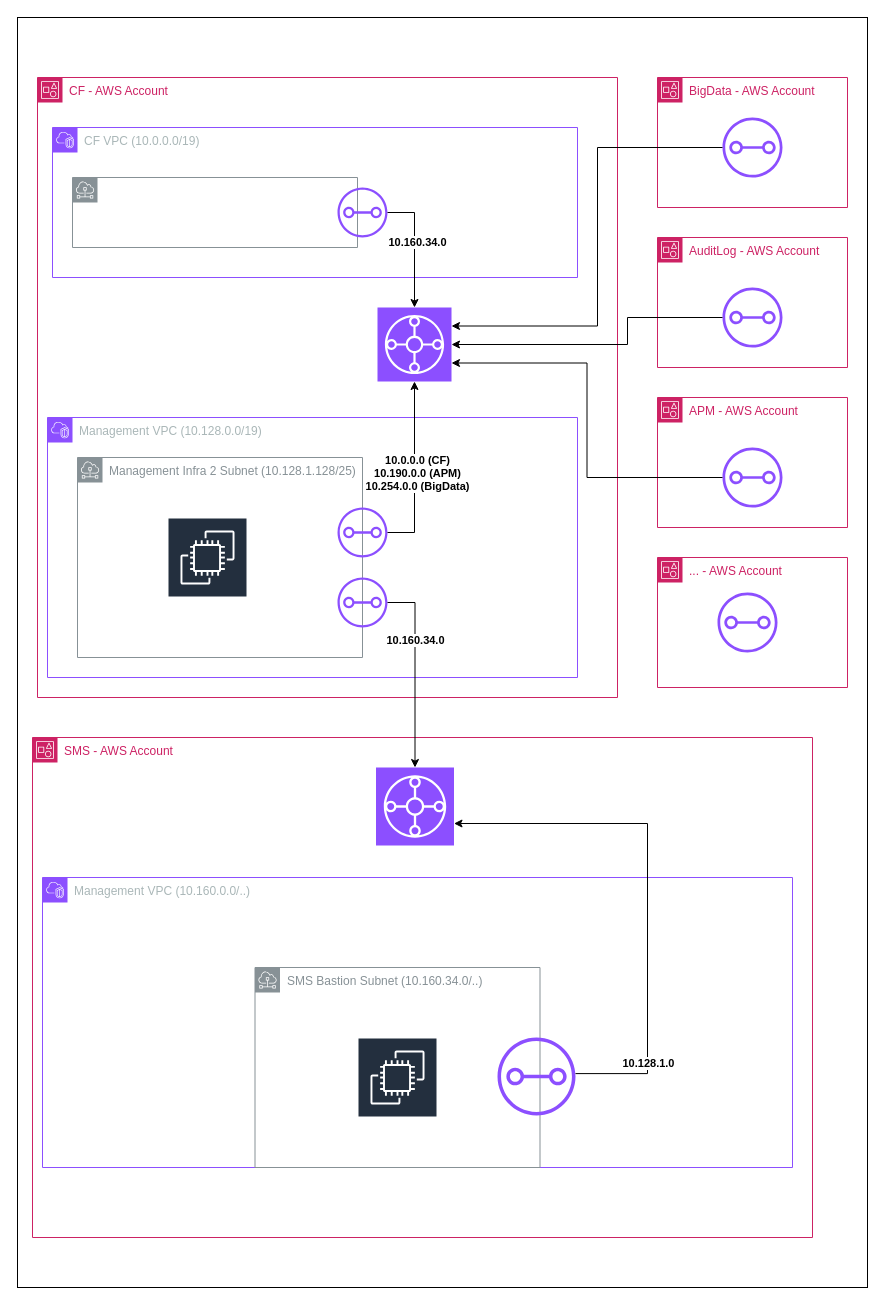
Image size: 885x1305. Some labels were removed from this diagram. The shapes that lost their labels are listed below. From the top down, each one's centre as x and y in pixels, then its label:
(x=215, y=212): ext_z1 Subnet (10.0.0.0/27)
(x=414, y=344): Management to SMS
(x=207, y=577): Management Bastion (10.128.1.128)
(x=414, y=806): SMS to CF Management VPC
(x=397, y=1092): SMSBastion (10.160.34.54)
